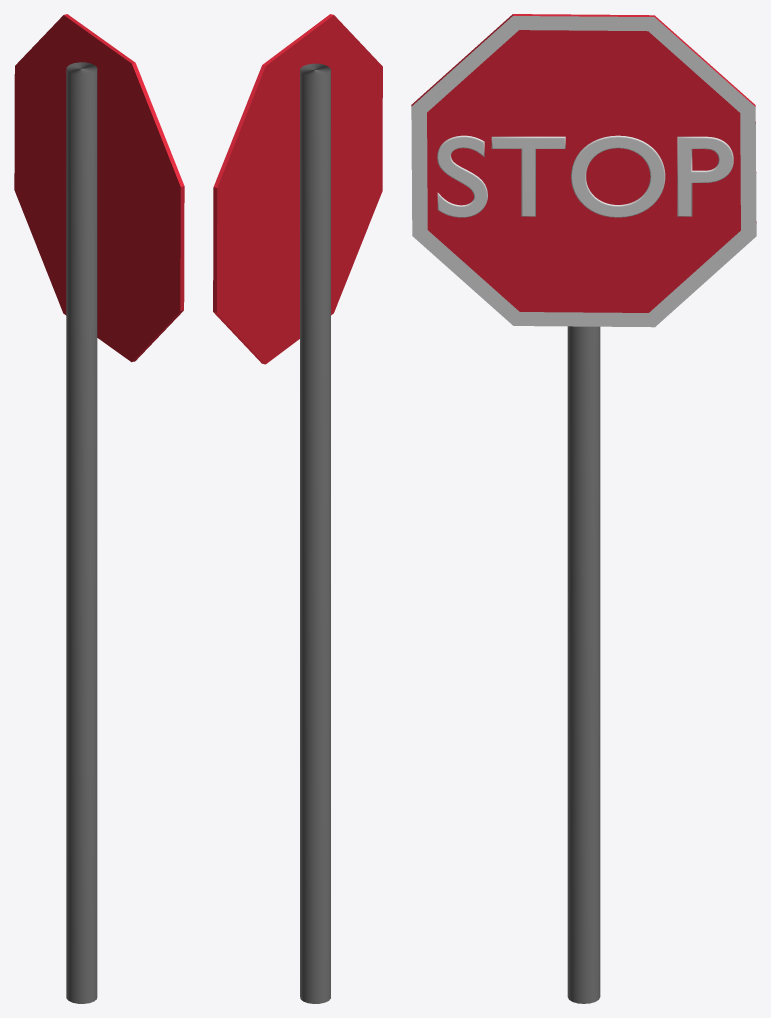
Rendered from Stop Sign.fbx.
3 views of the same model, side by side, from view 1: azimuth 30°, elevation 25°; view 2: azimuth 150°, elevation 25°; view 3: azimuth 270°, elevation 25° (orthographic). The views are drawn at different scales.
Visible parts, largest first — view 1: Cylinder; view 2: Cylinder; view 3: Cylinder, Text.
Boxes of the visible parts, x1,y1,x2,y2 form: Cylinder: (14,14,184,1003); Cylinder: (213,14,382,1003); Cylinder: (411,14,756,1003); Text: (437,135,733,217).
Size of the model in its own units: 0.0965 by 2.57 by 0.8115.
